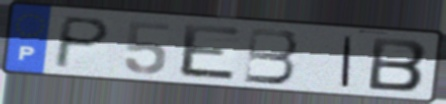5: (121, 19, 173, 76)
B: (366, 35, 431, 93), (242, 26, 301, 86)
E: (178, 22, 244, 83)
I: (338, 34, 356, 89)
P: (50, 14, 114, 70)
